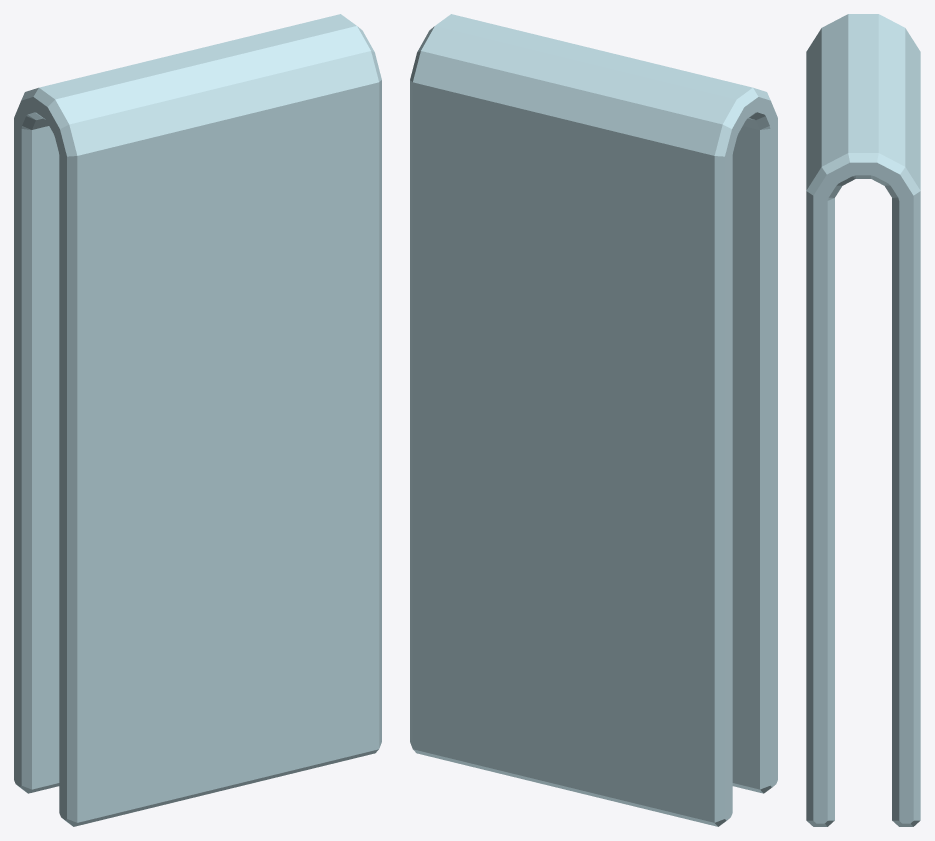
Rendered from Towel.fbx.
The picture shows the model from 3 angles, left to right: view 1: azimuth 30°, elevation 25°; view 2: azimuth 150°, elevation 25°; view 3: azimuth 270°, elevation 25°; orthographic projection. The views are drawn at different scales.
Parts seen in each view (by area): view 1: object2; view 2: object2; view 3: object2.
Part boxes in pixels (box(x1,y1,x2,y2)): object2: box(14, 14, 381, 826); object2: box(410, 14, 777, 826); object2: box(806, 14, 920, 826).
Bounding box in the file's own units: 26.25 × 56.88 × 8.75.
